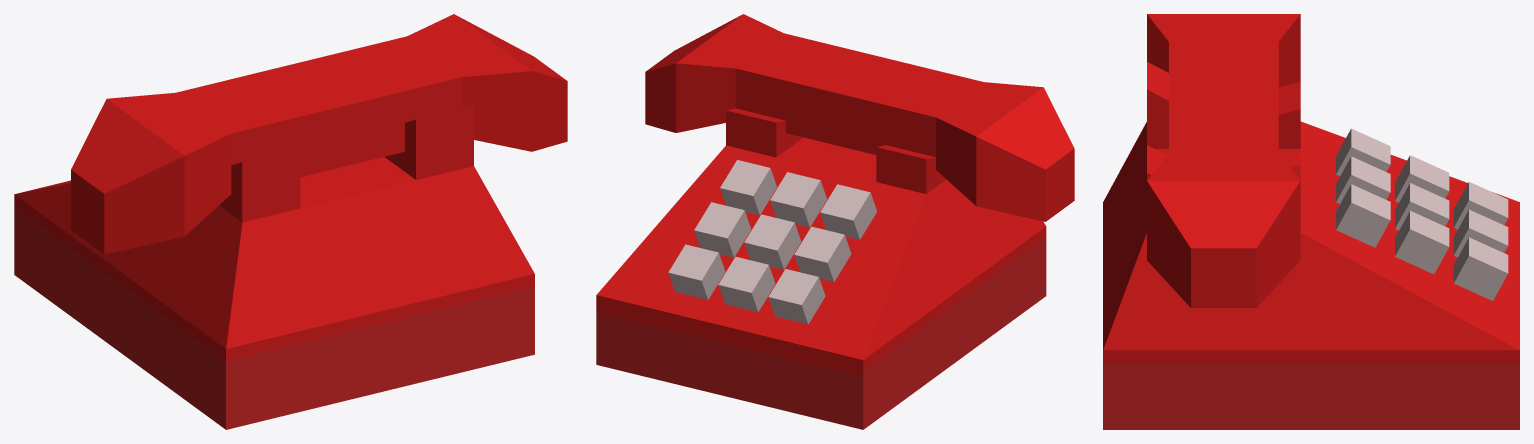
The model's file is telephone.gltf.
3 views of the same model, side by side, from view 1: azimuth 30°, elevation 25°; view 2: azimuth 150°, elevation 25°; view 3: azimuth 270°, elevation 25° (orthographic). The views are drawn at different scales.
Visible parts, largest first — view 1: base, phone (×2); view 2: base, phone (×2), buttons (×9); view 3: base, phone (×2), buttons (×9).
Part boxes in pixels (box(x1,y1,x2,y2)): base: box(14, 105, 534, 429); phone (×2): box(71, 14, 567, 254); base: box(596, 108, 1046, 429); phone (×2): box(645, 14, 1074, 221); buttons (×9): box(668, 160, 877, 324); base: box(1103, 62, 1519, 429); phone (×2): box(1147, 14, 1300, 307); buttons (×9): box(1336, 128, 1508, 300).
Bounding box in the file's own units: 1.5 × 0.8125 × 1.19.
1 material, 1 textured.
